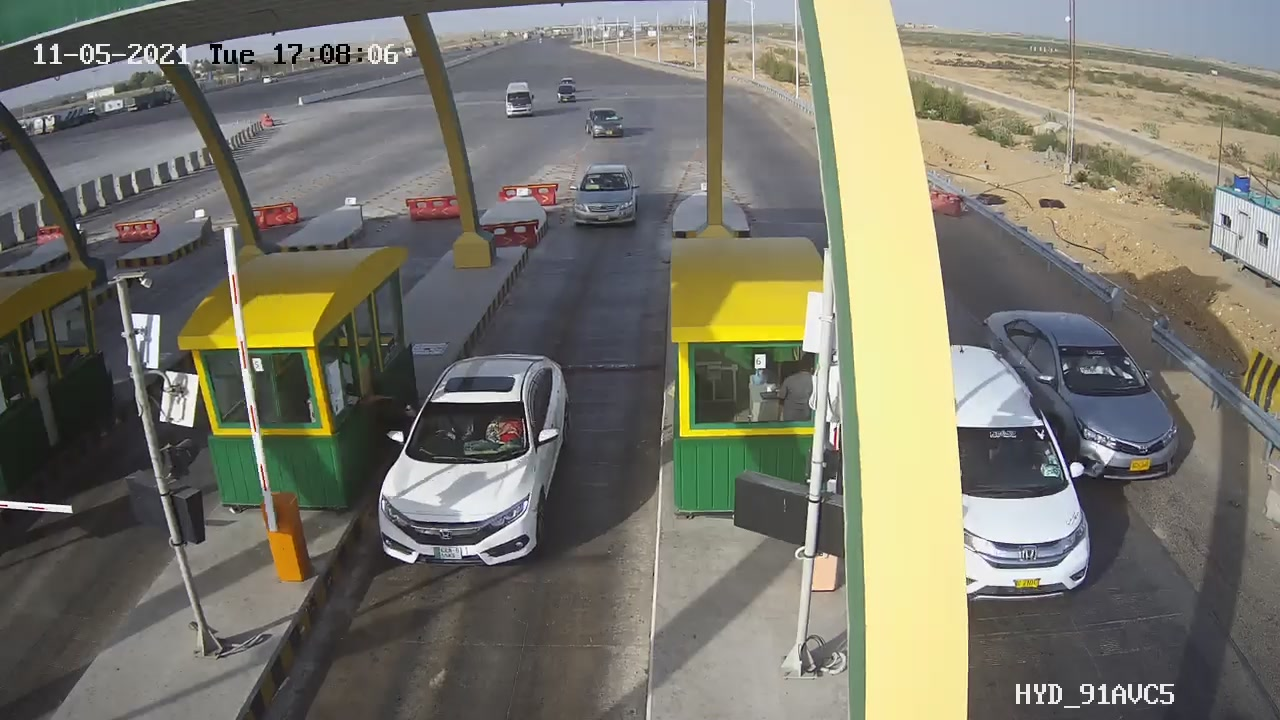F1: (355, 331, 612, 599)
